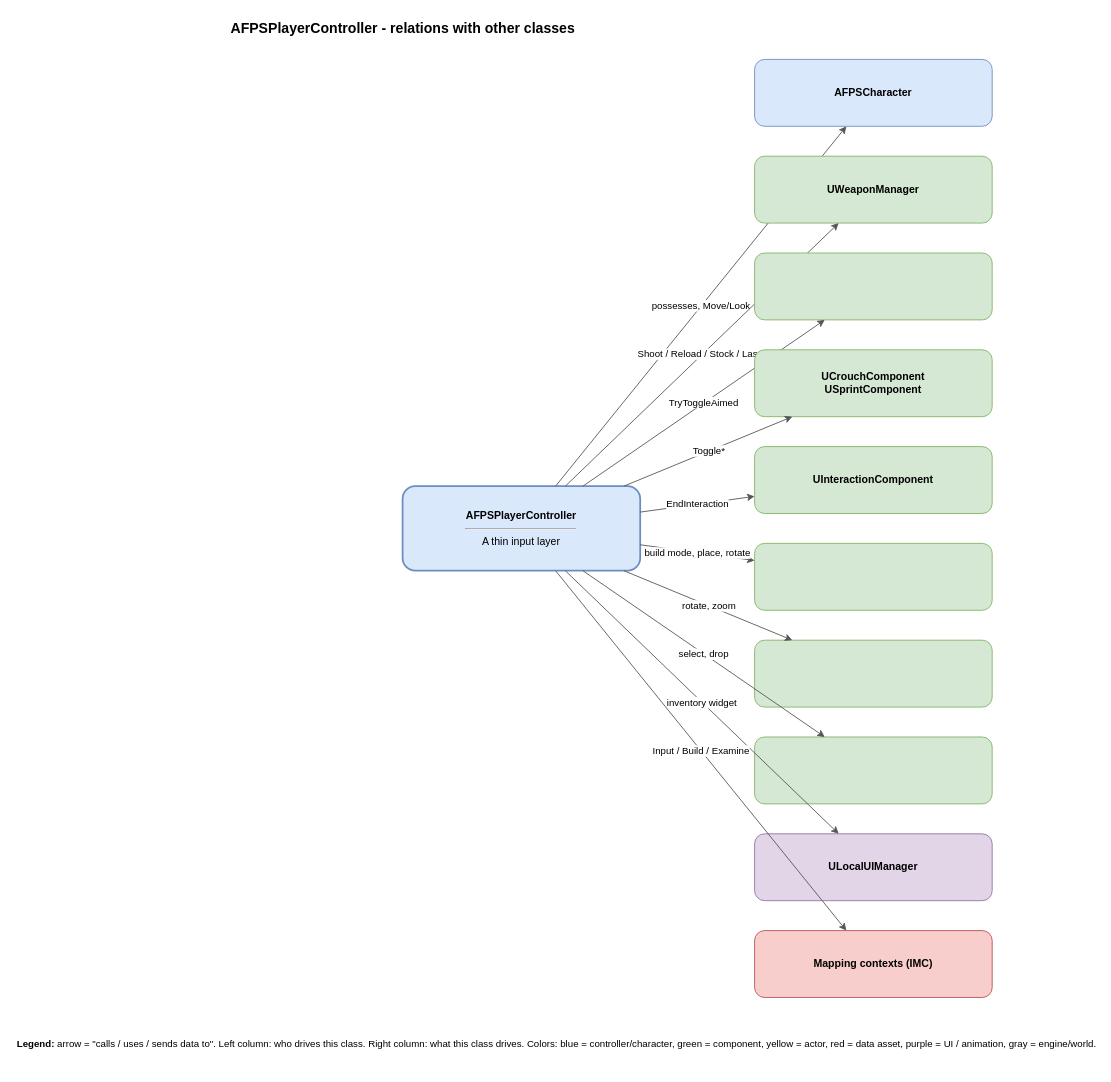
Some shapes in this 1111 by 1082 pixel diagram are drawn without their labels. Each missing label, with the centre of its shape:
UConstructionComponent: the point at 873,576
UExaminationComponent: the point at 873,673
UFPSStateComponent: the point at 873,286
UInventoryComponent: the point at 873,770
